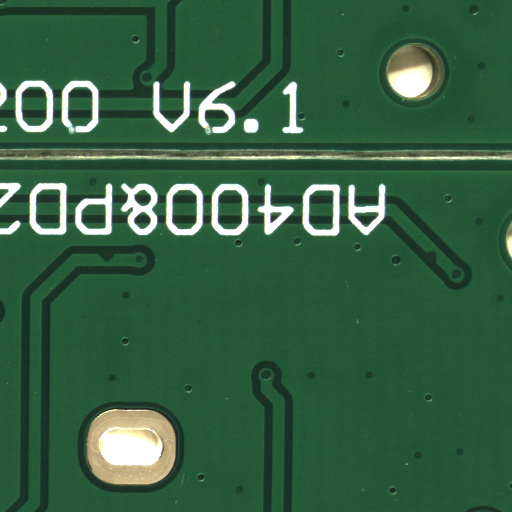Mouse_bite: (107, 257, 123, 266), (432, 257, 443, 269)
